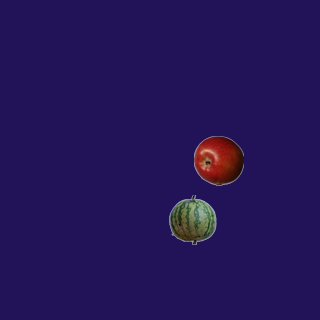Apple Braeburn: (193, 135, 243, 185)
Watermelon: (167, 194, 217, 244)
